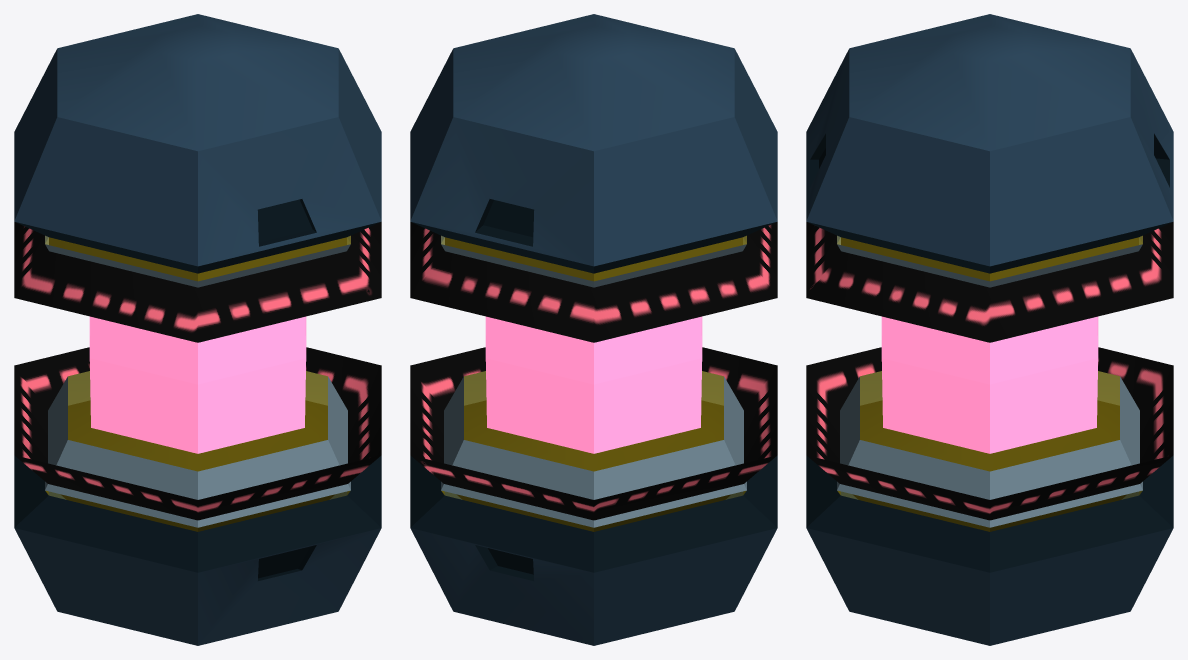
File: lamp.fbx
The picture shows the model from 3 angles, left to right: view 1: azimuth 30°, elevation 25°; view 2: azimuth 150°, elevation 25°; view 3: azimuth 270°, elevation 25°; orthographic projection.
Parts seen in each view (by area): view 1: Lamp_01, Lamp_01_Fade; view 2: Lamp_01, Lamp_01_Fade; view 3: Lamp_01, Lamp_01_Fade.
Part boxes in pixels (x1,y1,x2,y2): Lamp_01: (14,14,381,645); Lamp_01_Fade: (14,222,381,531); Lamp_01: (410,14,777,645); Lamp_01_Fade: (410,222,777,531); Lamp_01: (806,14,1173,645); Lamp_01_Fade: (806,222,1173,531).
Bounding box in the file's own units: 200 × 298 × 173.
Materials: 6 (1 with a texture image).
